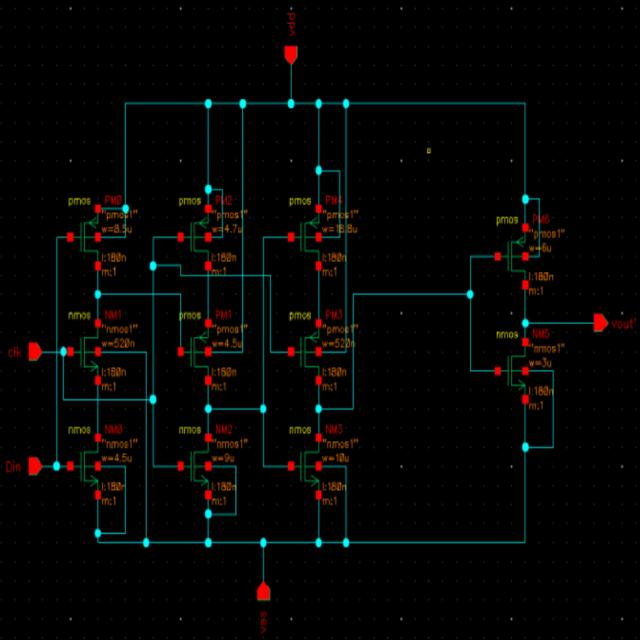nmos: (66, 310, 102, 386), (288, 425, 324, 501), (176, 426, 212, 501), (66, 426, 102, 501), (494, 331, 530, 404)
pmos: (175, 311, 214, 388), (286, 311, 323, 387), (494, 214, 530, 291), (66, 197, 102, 272), (287, 196, 323, 271), (176, 197, 212, 270)
